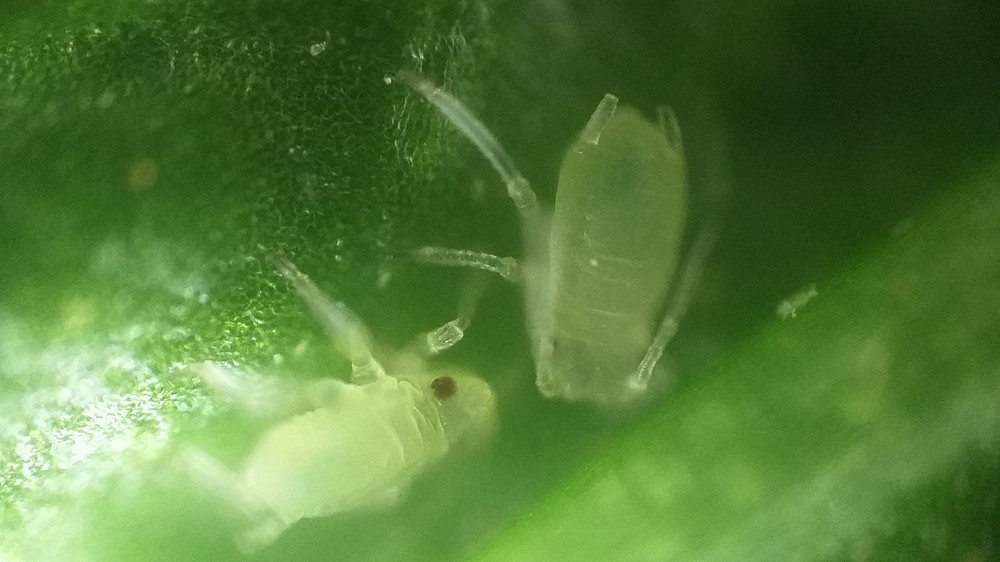Pulgon: (443, 78, 772, 444), (175, 287, 540, 554)
